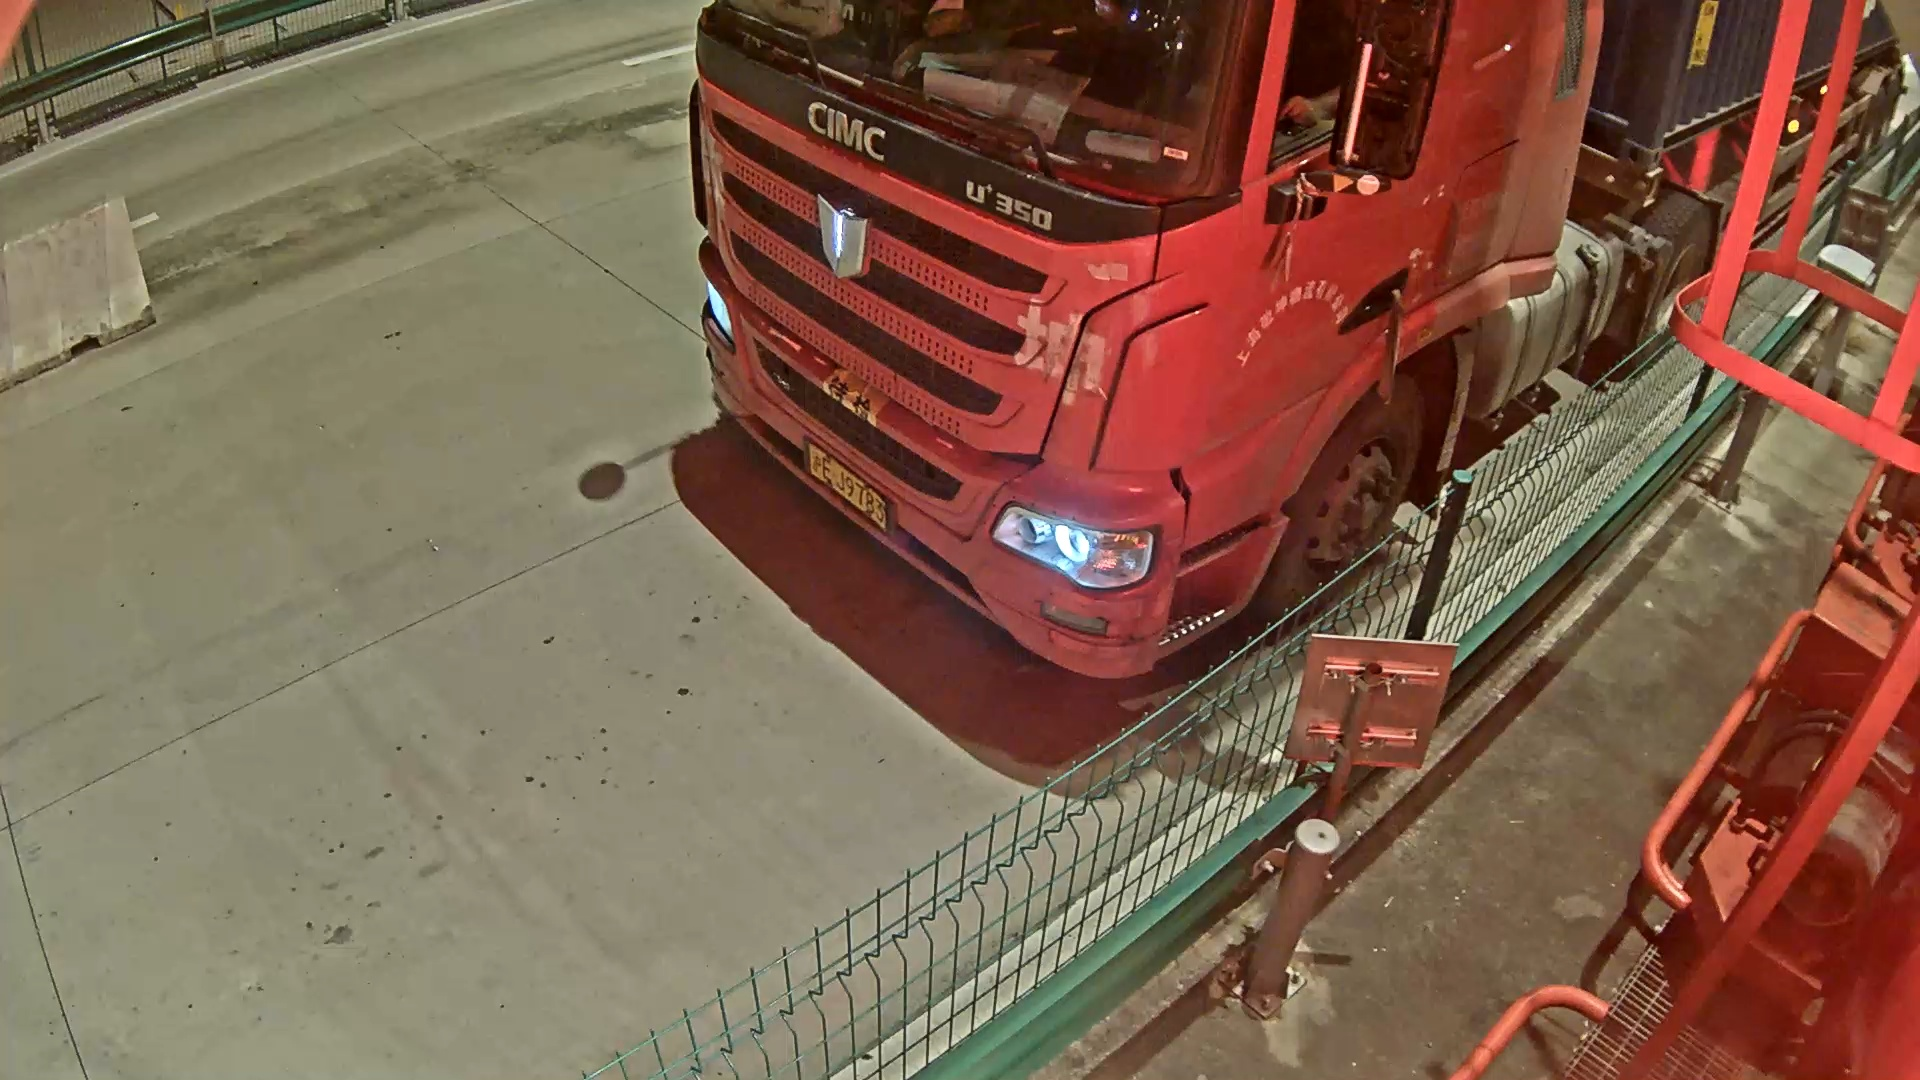head: (681, 19, 1370, 671)
plate: (801, 431, 925, 538)
